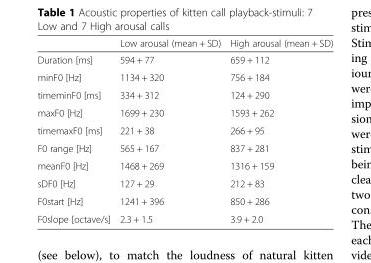table: (36, 37, 332, 224)
table column: (114, 37, 224, 224), (224, 37, 332, 224), (36, 37, 114, 224)
table column header: (36, 37, 332, 50)
table row: (36, 50, 332, 68), (36, 85, 332, 103), (36, 103, 332, 121), (36, 138, 332, 156), (36, 156, 332, 174), (36, 174, 332, 192), (36, 68, 332, 85), (36, 121, 332, 138), (36, 192, 332, 209), (36, 209, 332, 224), (36, 37, 332, 50)
